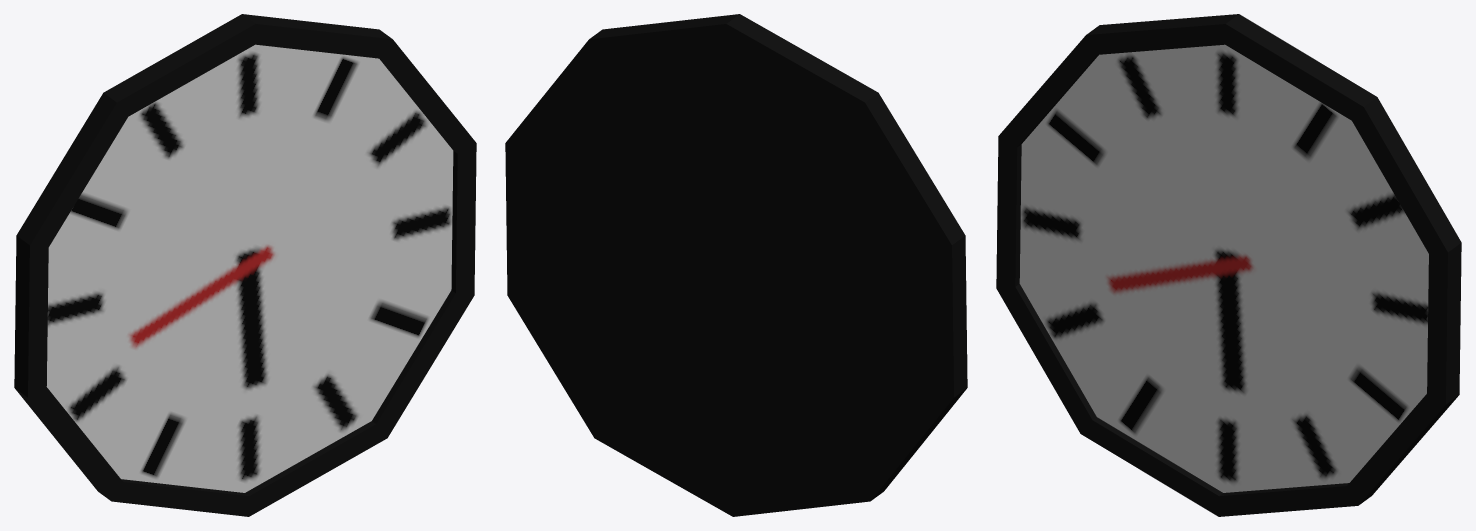
Rendered from Int_WallClock01.fbx.
3 renders of one model, left to right at view 1: azimuth 30°, elevation 25°; view 2: azimuth 150°, elevation 25°; view 3: azimuth 330°, elevation 25°, orthographic.
Parts seen in each view (by area): view 1: Int_WallClock01; view 2: Int_WallClock01; view 3: Int_WallClock01.
Part boxes in pixels (x1,y1,x2,y2): Int_WallClock01: (14,14,476,516); Int_WallClock01: (505,14,967,516); Int_WallClock01: (996,14,1461,516).
Size of what is drawn, in the model's own units: 47.78 by 2.5 by 50.01.
